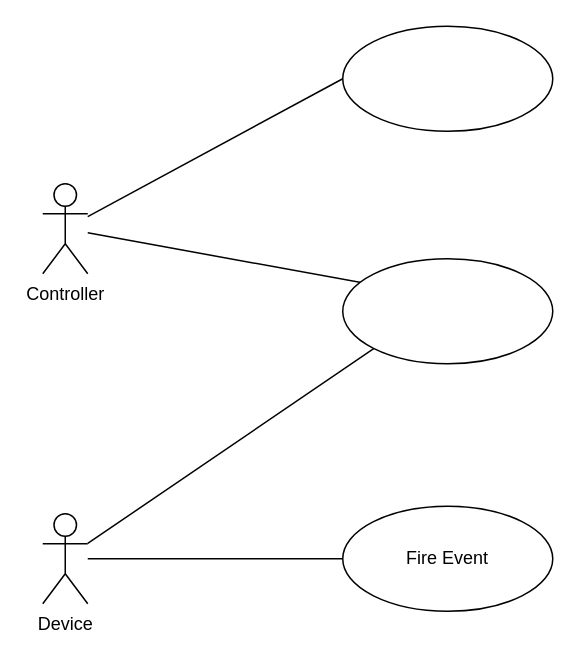
Some shapes in this 579 by 662 pixel diagram are drawn without their labels. Each missing label, with the centre of its shape:
"Execute Action" goes at (x=447, y=78).
"Subscribe" goes at (x=447, y=310).
